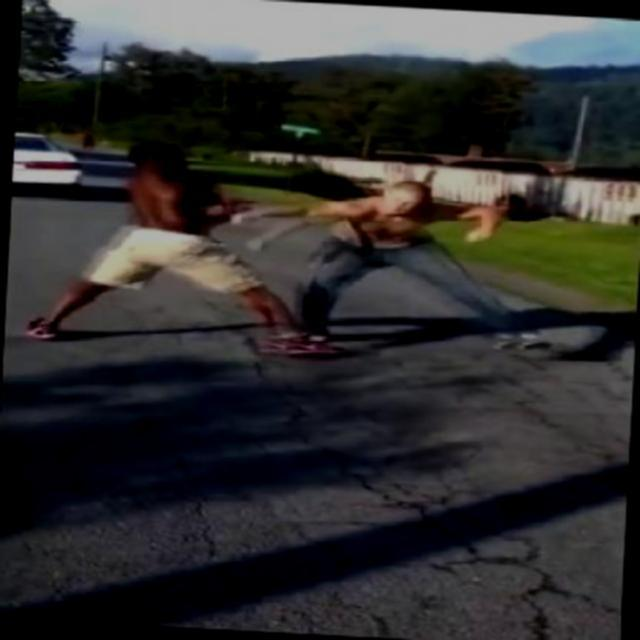fight: (96, 137, 562, 357)
